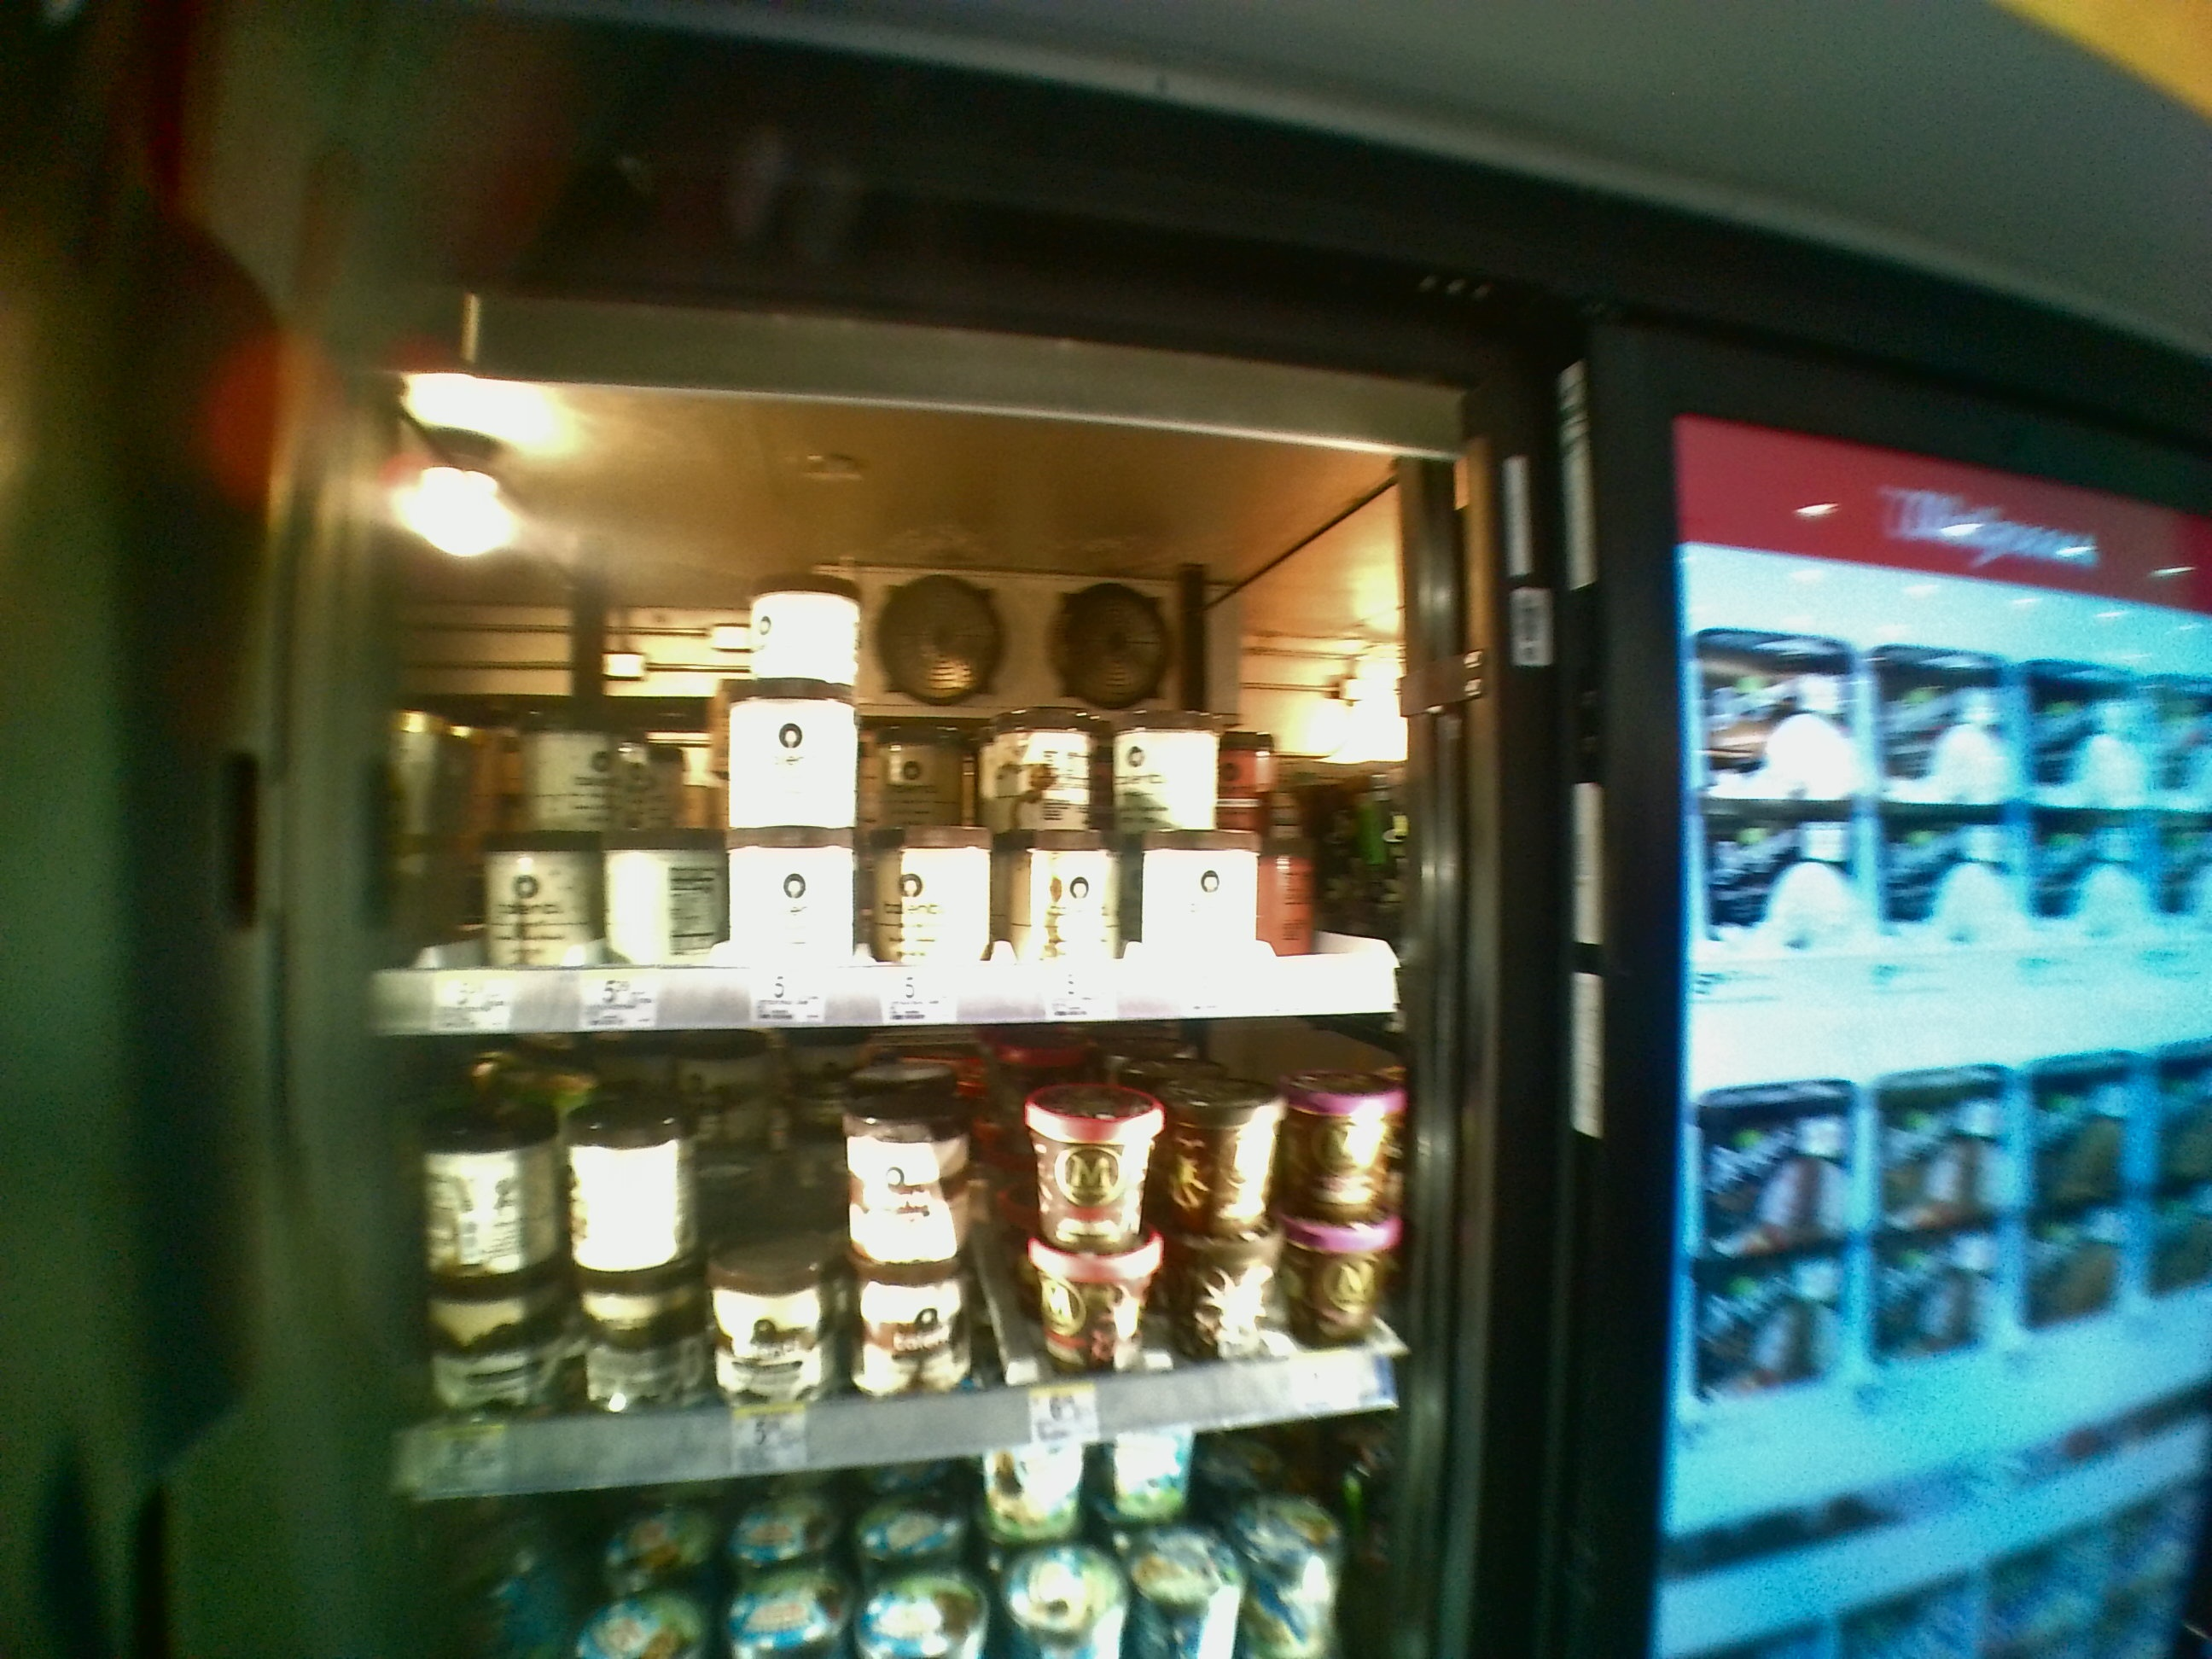shelf: (364, 390, 1433, 1037), (369, 1058, 1439, 1504)
